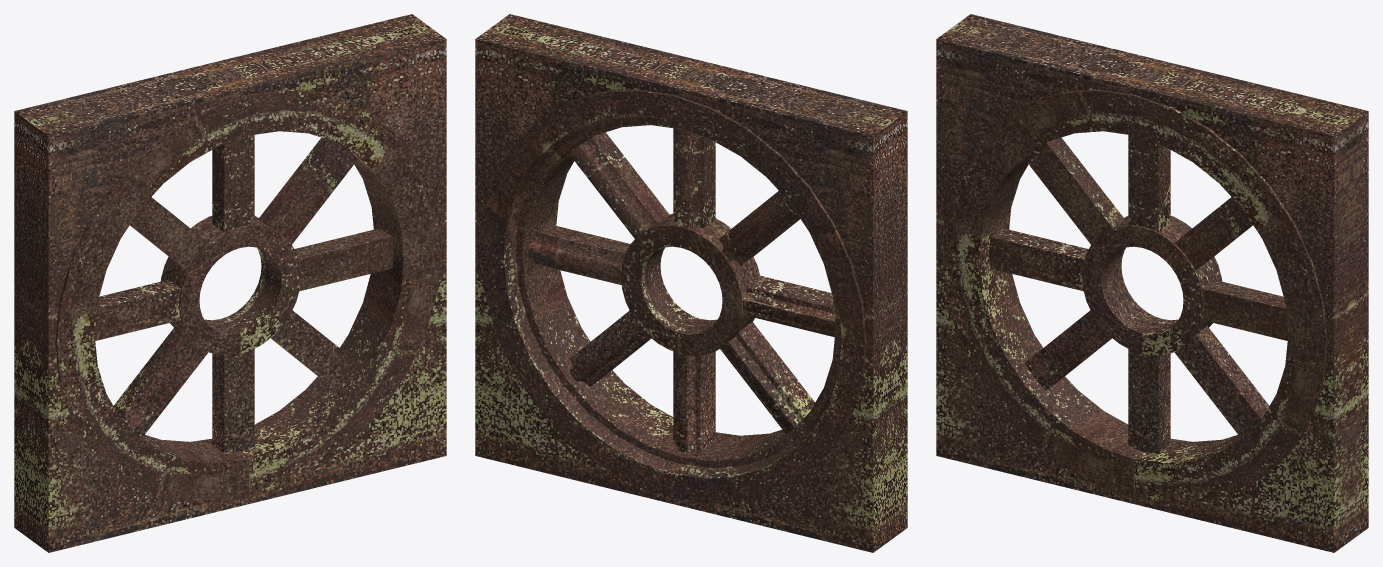
Rendered from Ruims3.fbx.
3 renders of one model, left to right at view 1: azimuth 30°, elevation 25°; view 2: azimuth 150°, elevation 25°; view 3: azimuth 330°, elevation 25°, orthographic.
Parts seen in each view (by area): view 1: Cylinder.046; view 2: Cylinder.046; view 3: Cylinder.046.
Boxes of the visible parts, x1,y1,x2,y2 form: Cylinder.046: (14, 14, 446, 552); Cylinder.046: (475, 14, 907, 552); Cylinder.046: (936, 14, 1368, 552).
Size of the model in its own units: 400 by 400 by 65.52.
